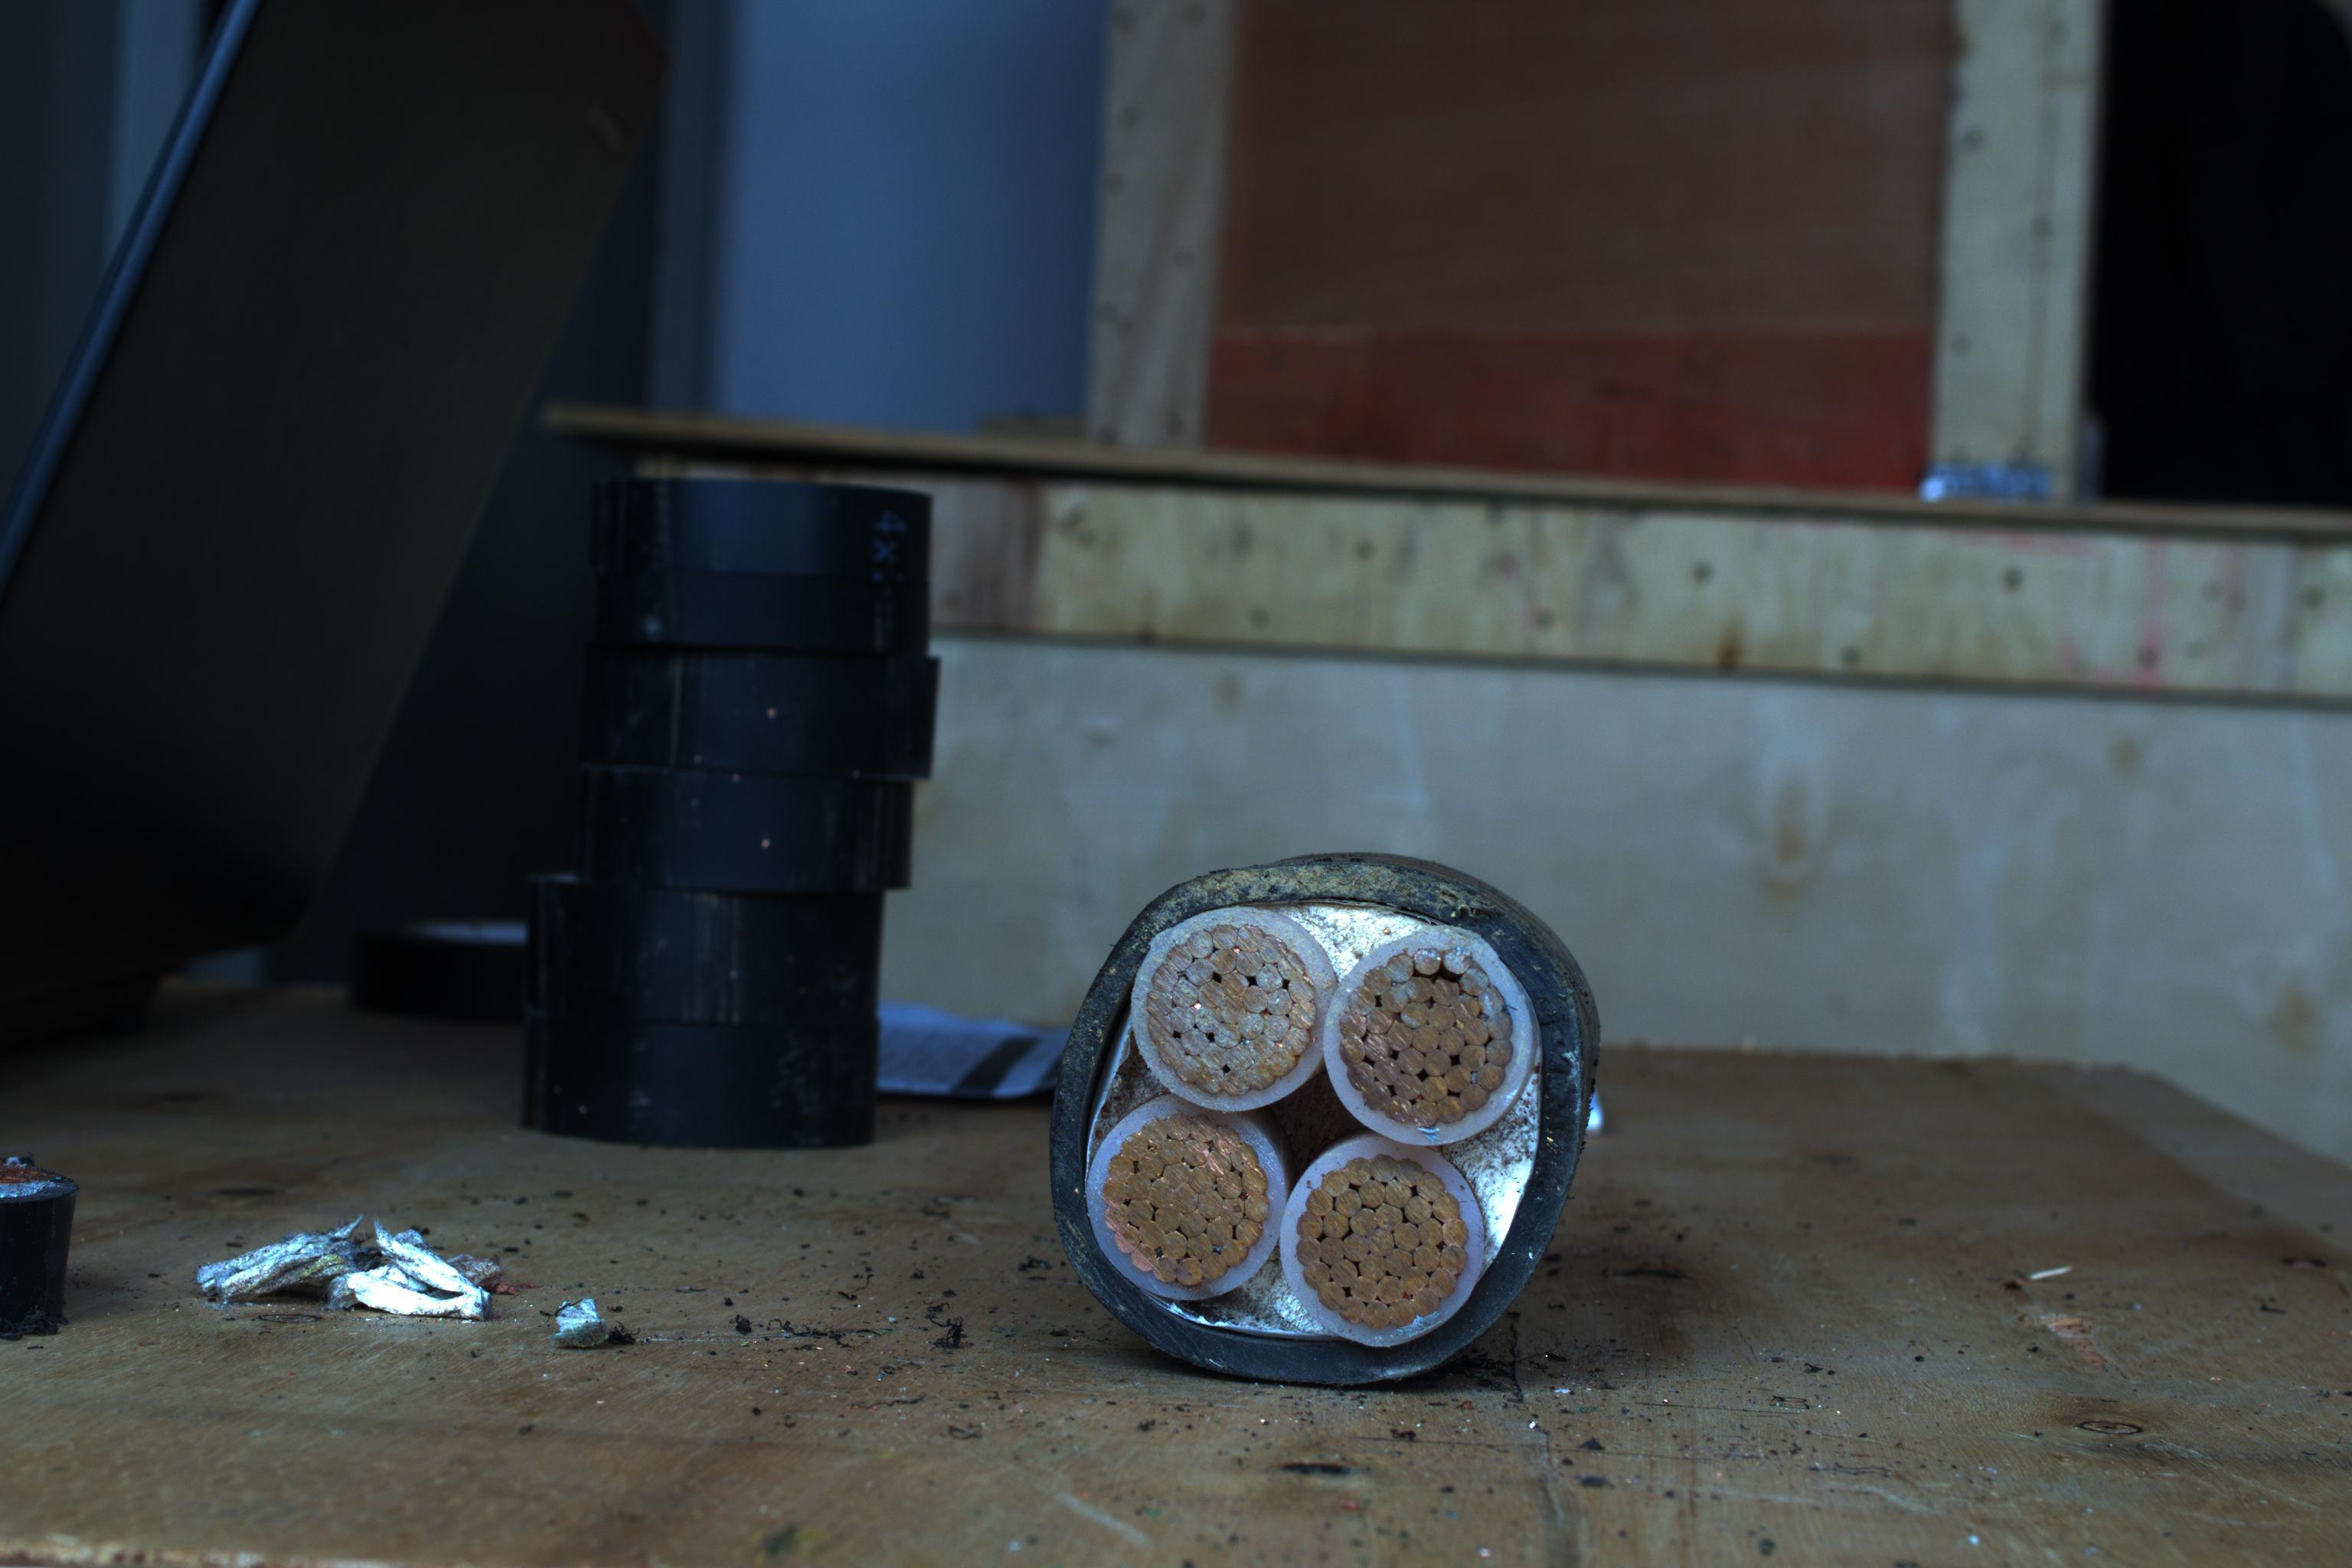YJV_0.6_1kV_4x240: (1053, 864, 1591, 1382)
